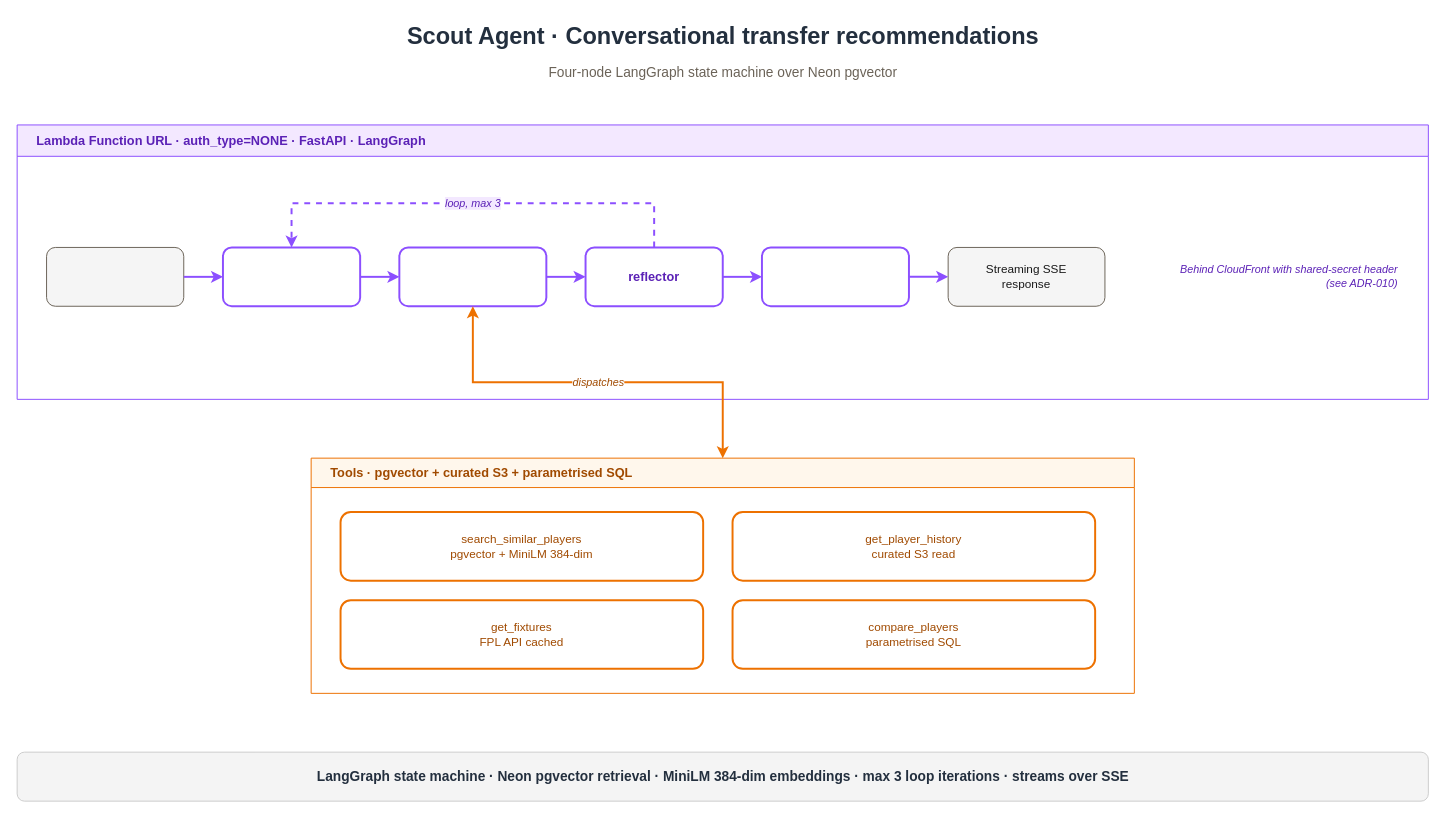
This 1446x818 diagram has some shape labels left out. The centre of each missing label's shape, as x and y in pixels:
"planner" belongs at [291,276].
"recommender" belongs at [834,276].
"tool_executor" belongs at [472,276].
"User query (team ID + ask)" belongs at [115,276].
